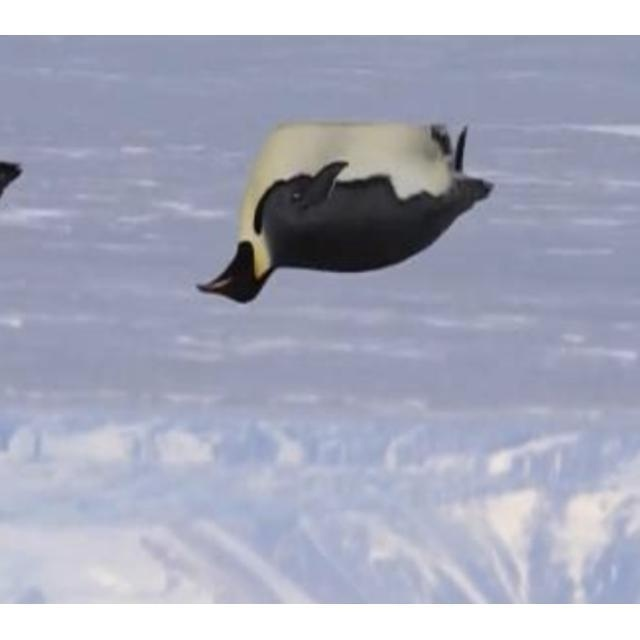penguin: (195, 120, 495, 308)
